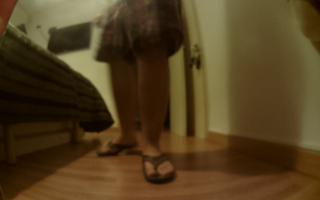person: (87, 1, 186, 182)
